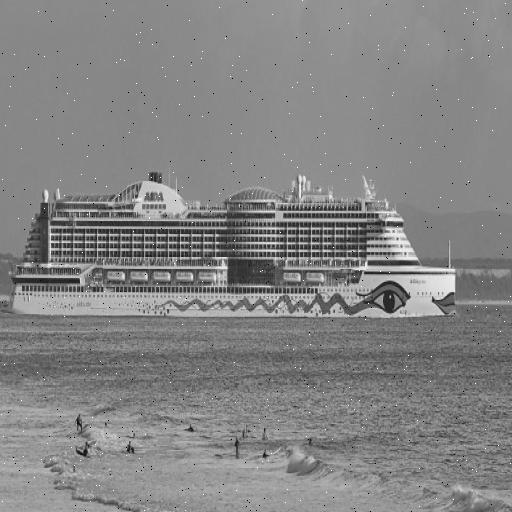cruises: (6, 168, 460, 324)
